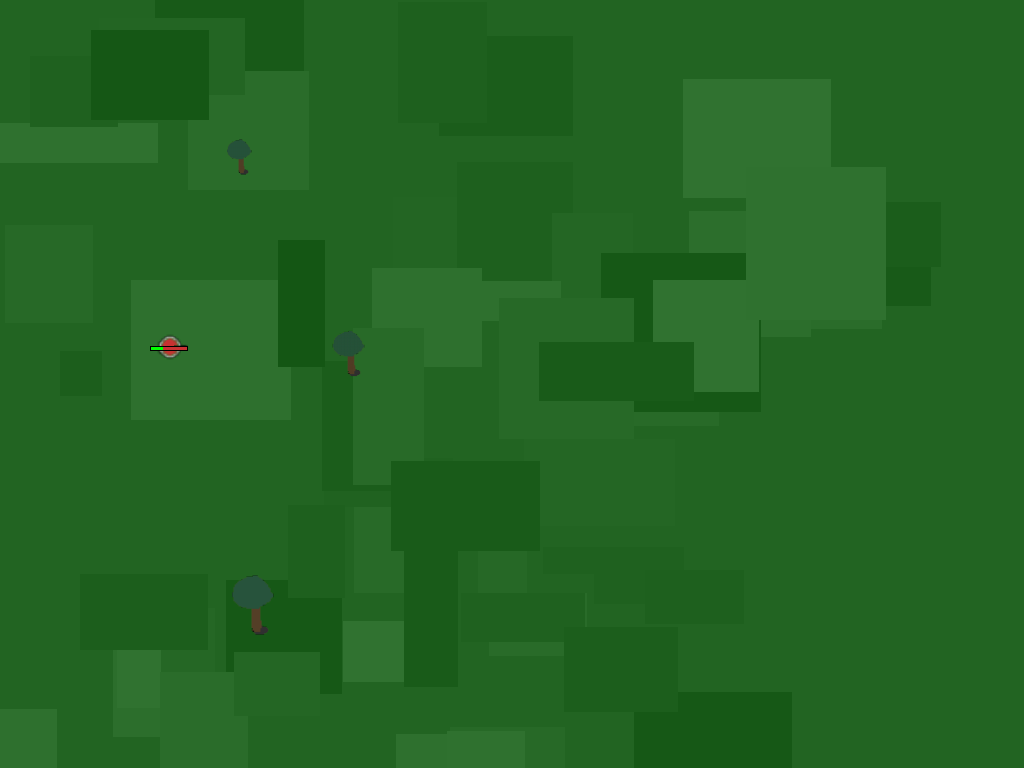Rifleman: (147, 324, 189, 366)
